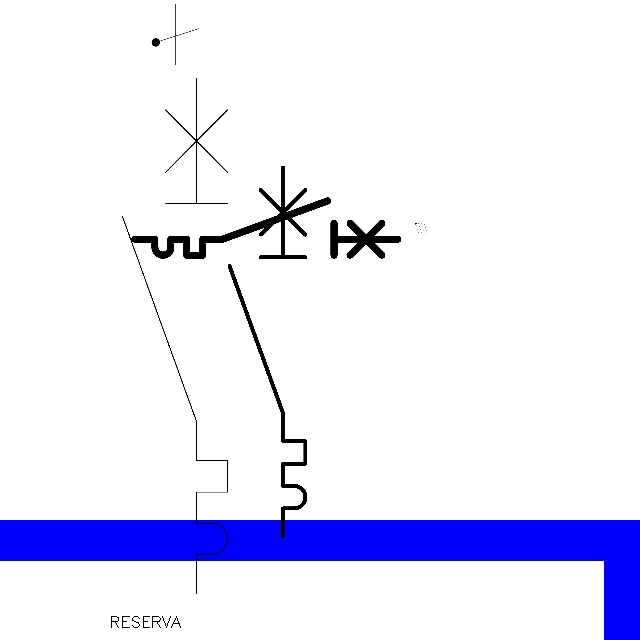interruptor_termomagnetico: (109, 65, 241, 606), (220, 158, 315, 546), (128, 194, 405, 262)
